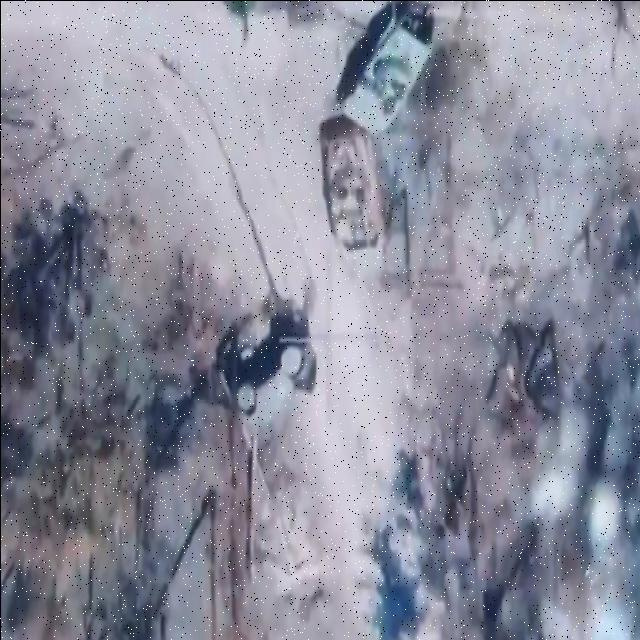APC-IFV: (341, 9, 431, 135), (318, 126, 382, 262)
CAR: (230, 308, 325, 442)
